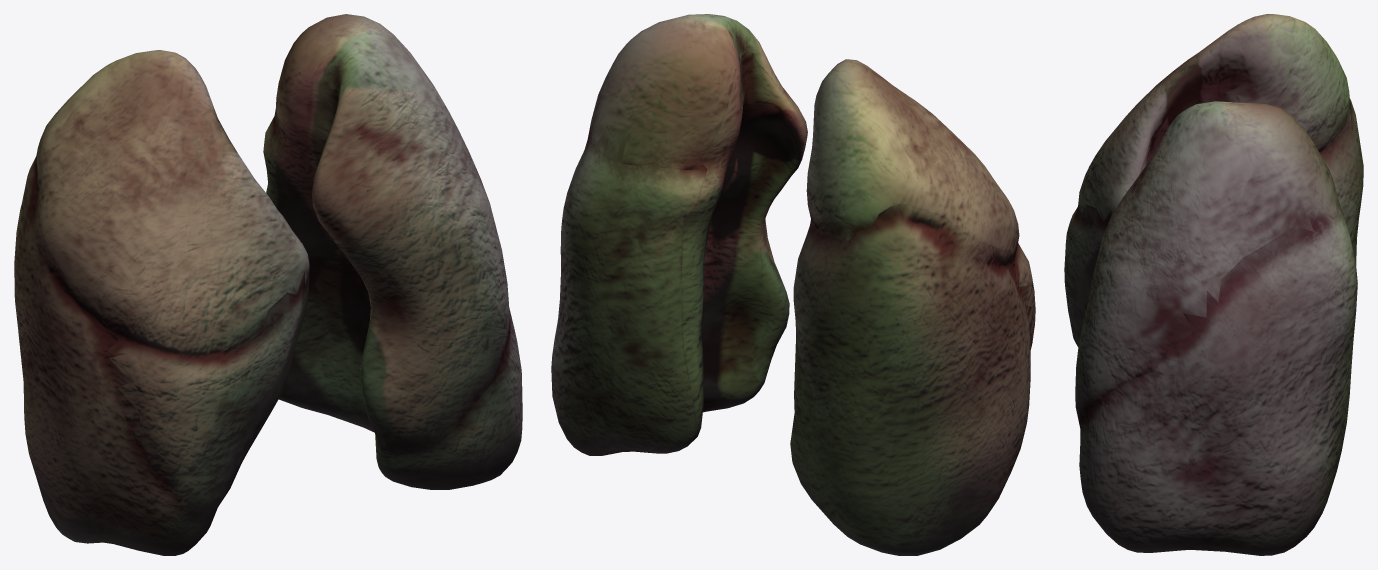
The model's file is Lungs.obj.
The picture shows the model from 3 angles, left to right: view 1: azimuth 30°, elevation 25°; view 2: azimuth 150°, elevation 25°; view 3: azimuth 270°, elevation 25°; orthographic projection. The views are drawn at different scales.
Parts seen in each view (by area): view 1: thlow_Mesh.001; view 2: thlow_Mesh.001; view 3: thlow_Mesh.001.
Part boxes in pixels (x1,y1,x2,y2): thlow_Mesh.001: (14,14,522,555); thlow_Mesh.001: (551,14,1035,555); thlow_Mesh.001: (1064,14,1363,555).
Bounding box in the file's own units: 2.62 × 2.69 × 1.67.
Materials: 1 (1 with a texture image).
